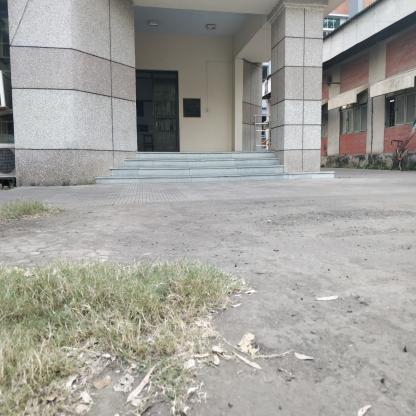stairs: (140, 153, 274, 186)
